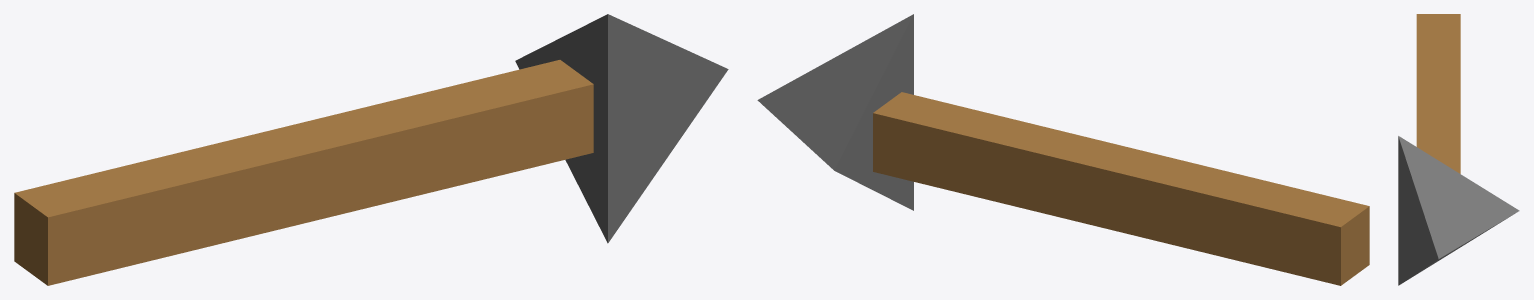
File: arrow.fbx
3 views of the same model, side by side, from view 1: azimuth 30°, elevation 25°; view 2: azimuth 150°, elevation 25°; view 3: azimuth 270°, elevation 25° (orthographic). The views are drawn at different scales.
Parts seen in each view (by area): view 1: shaft, head; view 2: shaft, head; view 3: head, shaft.
Part boxes in pixels (x1,y1,x2,y2): shaft: (14,60,593,285); head: (515,14,728,243); shaft: (873,92,1369,285); head: (757,14,913,210); head: (1398,136,1519,285); shaft: (1416,14,1460,173).
Size of the model in its own units: 2.01 by 0.6333 by 0.464.
